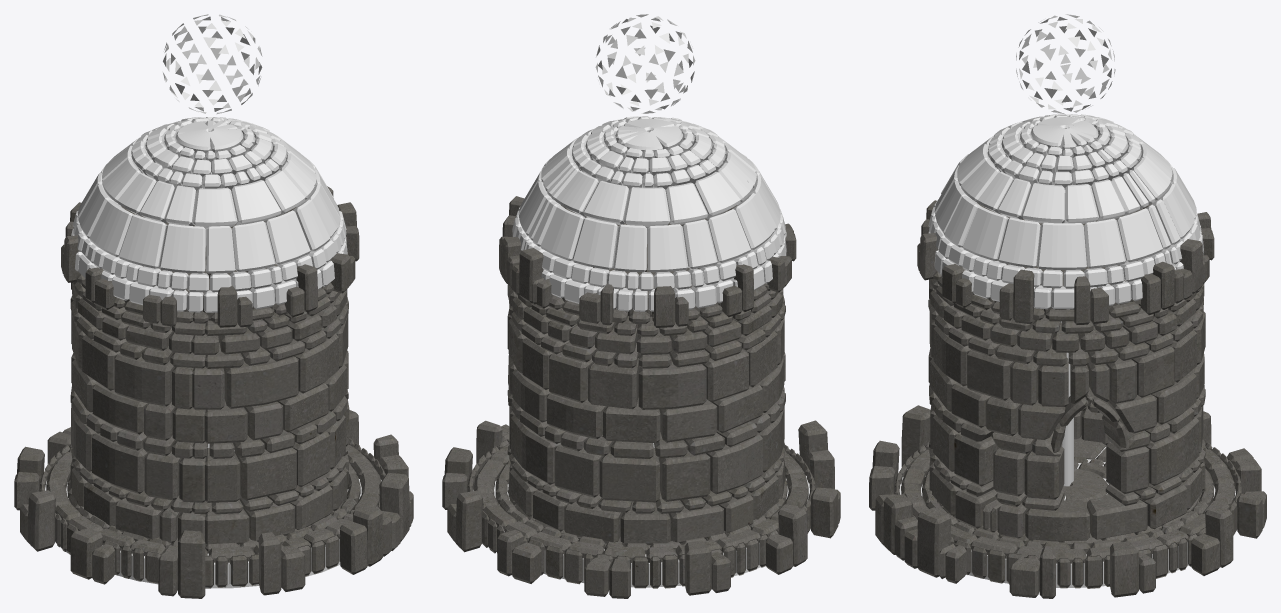
File: tower 3.fbx
The picture shows the model from 3 angles, left to right: view 1: azimuth 30°, elevation 25°; view 2: azimuth 150°, elevation 25°; view 3: azimuth 270°, elevation 25°; orthographic projection.
Visible parts, largest first — view 1: Wall.006, Wall.007, Wall.010, Wall.019, Icosphere.002, Circle.002; view 2: Wall.006, Wall.007, Wall.010, Wall.019, Icosphere.002, Circle.002; view 3: Wall.006, Wall.007, Wall.010, Wall.019, Icosphere.002, Cylinder.002.
Part boxes in pixels (left/top/right/bottom): Wall.006: left=70, top=273, right=349, bottom=546; Wall.007: left=71, top=117, right=347, bottom=312; Wall.010: left=14, top=410, right=413, bottom=598; Wall.019: left=61, top=186, right=359, bottom=327; Icosphere.002: left=163, top=14, right=262, bottom=114; Circle.002: left=45, top=479, right=381, bottom=588; Wall.006: left=507, top=283, right=785, bottom=547; Wall.007: left=512, top=116, right=786, bottom=311; Wall.010: left=442, top=420, right=840, bottom=598; Wall.019: left=499, top=196, right=796, bottom=327; Icosphere.002: left=595, top=14, right=695, bottom=113; Circle.002: left=473, top=476, right=809, bottom=587; Wall.006: left=928, top=255, right=1205, bottom=547; Wall.007: left=928, top=114, right=1203, bottom=309; Wall.010: left=869, top=405, right=1266, bottom=598; Wall.019: left=917, top=200, right=1214, bottom=324; Icosphere.002: left=1016, top=14, right=1115, bottom=114; Cylinder.002: left=1060, top=190, right=1108, bottom=500.
Bounding box in the file's own units: 2108 × 2905 × 2109.
